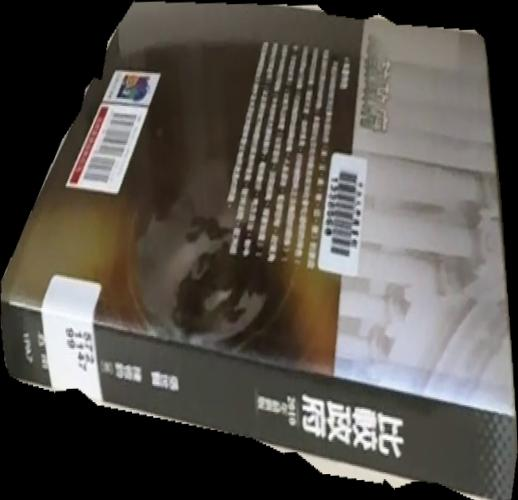flat: (1, 1, 518, 500)
